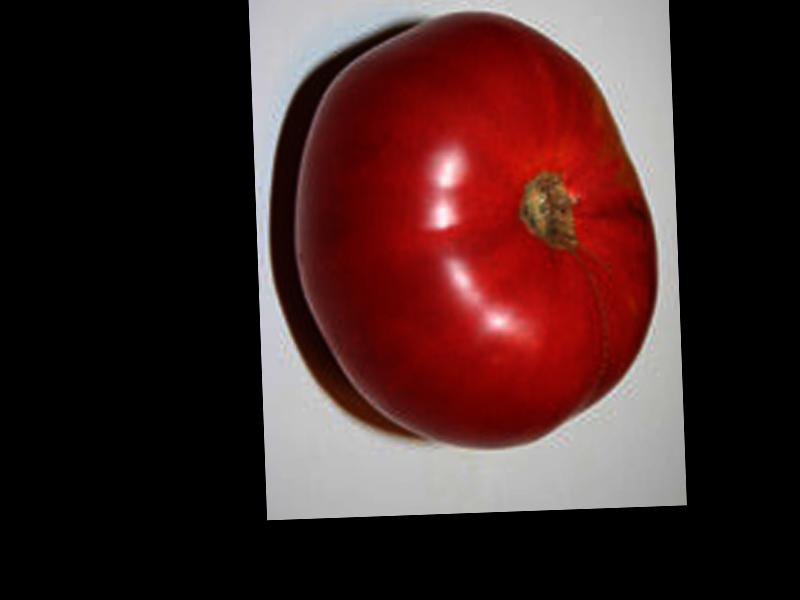Tomato: (296, 3, 667, 456)
